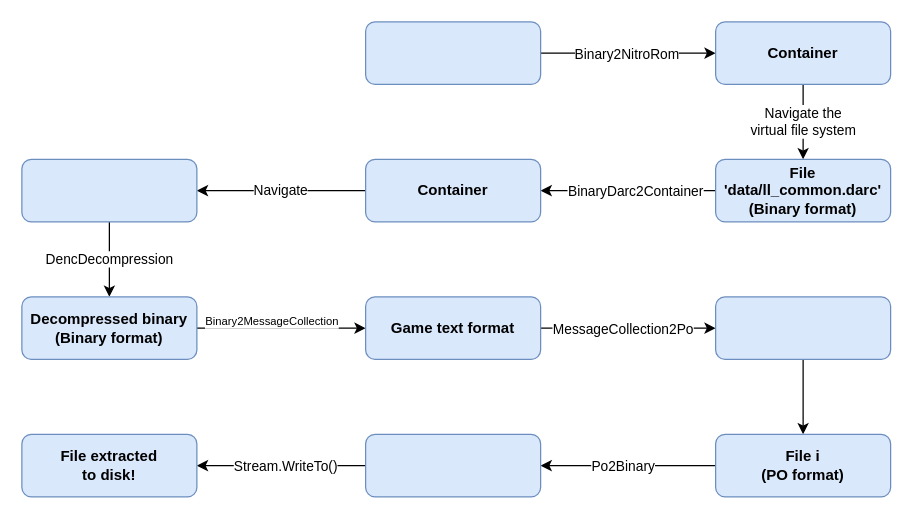
This 913x519 diagram has some shape labels left out. Each missing label, with the centre of its shape:
"Binary format" goes at (x=452, y=465).
"Container with PO formats" goes at (x=802, y=327).
"File 2 (Binary format)" goes at (x=109, y=190).
"File from disk (Binary format)" goes at (x=452, y=52).
